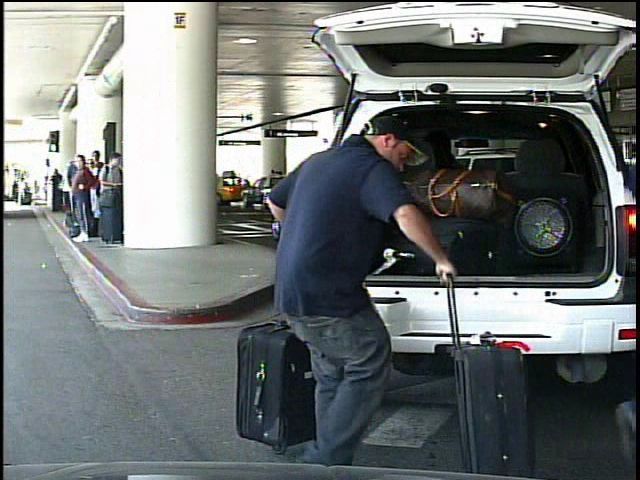person: (265, 102, 450, 477), (18, 176, 29, 207)
